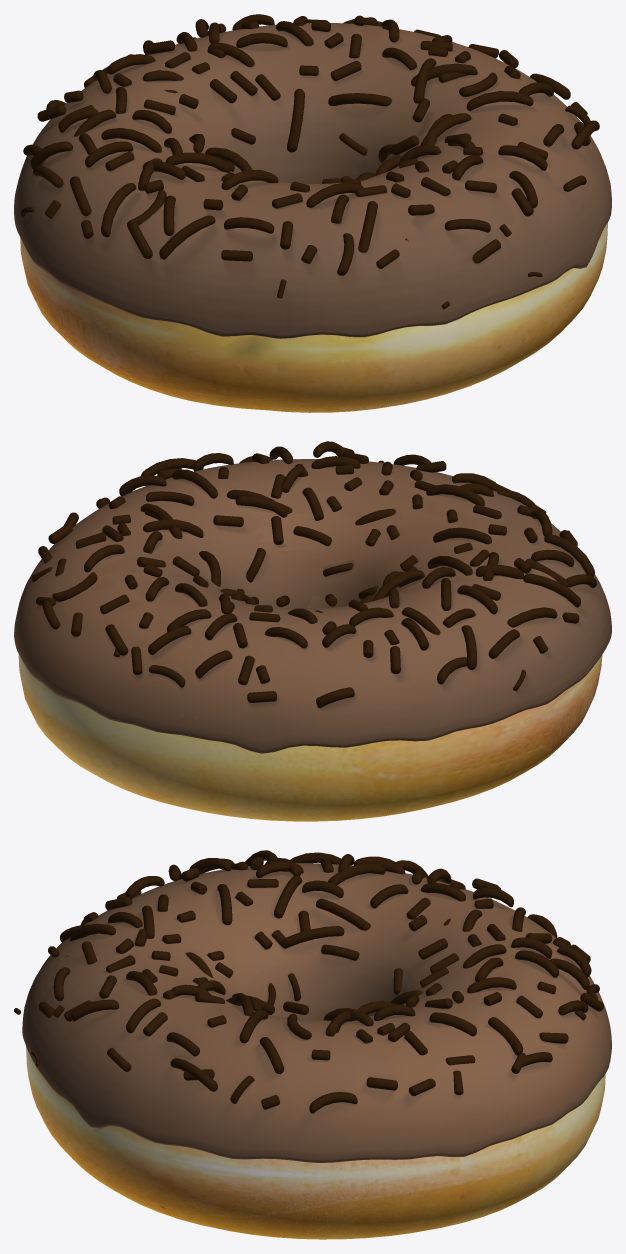
File: coffee chocolate  vermicheli.glb
3 views of the same model, one above another, from view 1: azimuth 30°, elevation 25°; view 2: azimuth 150°, elevation 25°; view 3: azimuth 270°, elevation 25° (orthographic). The views are drawn at different scales.
Visible parts, largest first — view 1: coffee.001, coffee, blue.002, Torus; view 2: coffee, coffee.001, blue.002, Torus; view 3: coffee, coffee.001, Torus, blue.002.
Boxes of the visible parts, x1,y1,x2,y2 form: coffee.001: (14,22,611,338); coffee: (14,23,611,338); blue.002: (20,14,599,309); Torus: (20,222,607,412); coffee: (14,459,605,753); coffee.001: (14,459,611,753); blue.002: (31,441,596,707); Torus: (18,654,602,821); coffee: (24,863,611,1162); coffee.001: (22,863,611,1162); Torus: (26,1046,605,1239); blue.002: (14,850,603,1113).
Bounding box in the file's own units: 0.1996 × 0.0773 × 0.2006.
Materials: 4 (2 with a texture image).
